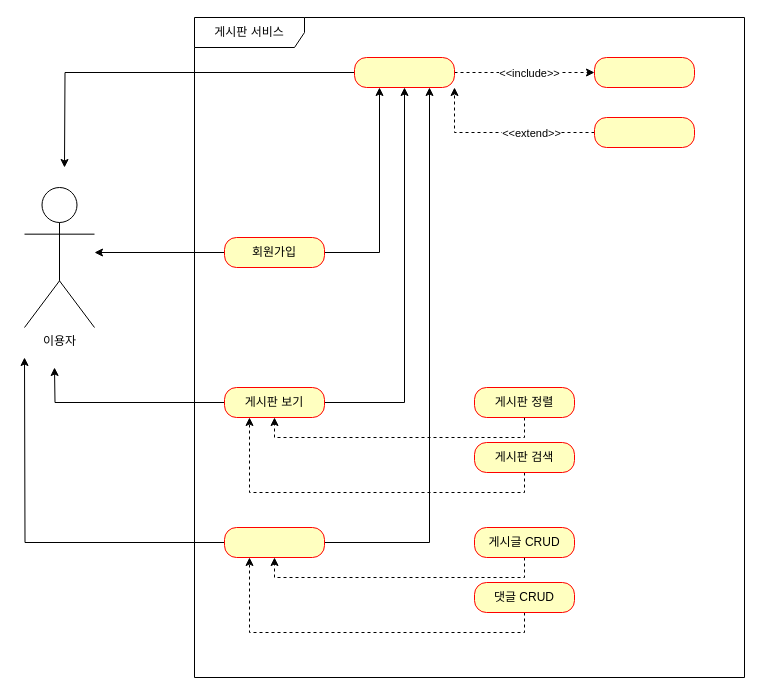
This 762x695 diagram has some shape labels left out. The centre of each missing label's shape, as x and y in pixels:
"게시글 보기" goes at point 274,542.
"로그인 실패" goes at point 644,132.
"인증" goes at point 644,72.
"회원 로그인" goes at point 404,72.
